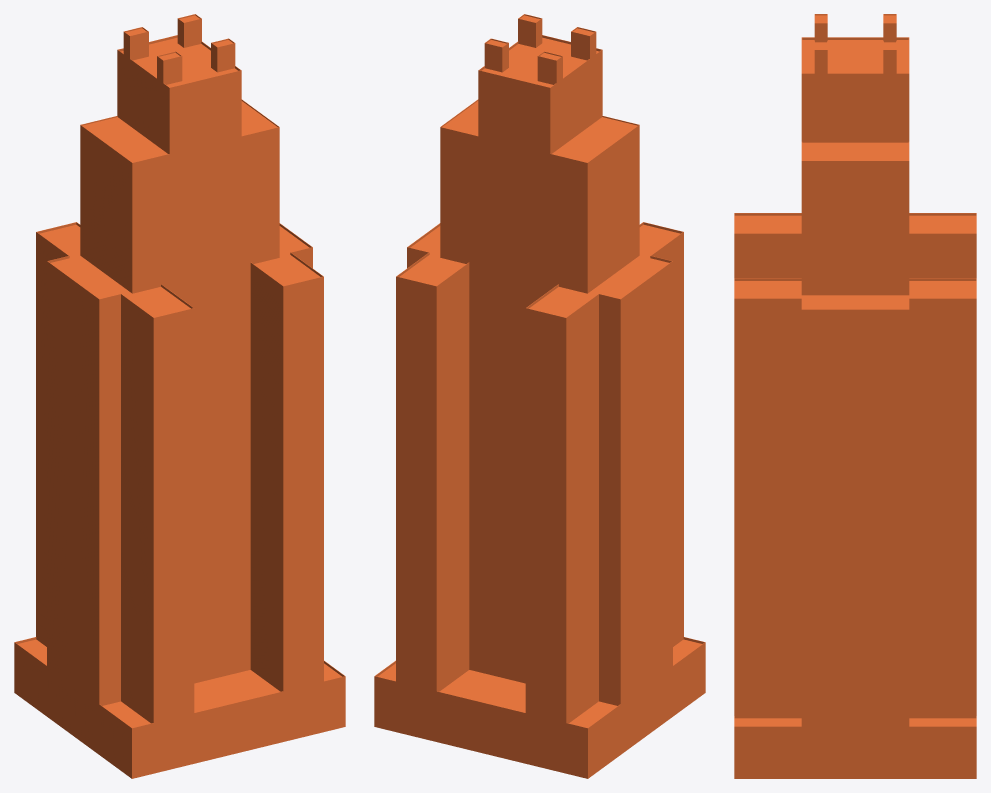
Rendered from Building_05_4.FBX.
The picture shows the model from 3 angles, left to right: view 1: azimuth 30°, elevation 25°; view 2: azimuth 150°, elevation 25°; view 3: azimuth 270°, elevation 25°; orthographic projection. The views are drawn at different scales.
Parts seen in each view (by area): view 1: Building_05_4; view 2: Building_05_4; view 3: Building_05_4.
Part boxes in pixels (x1,y1,x2,y2): Building_05_4: (14, 14, 345, 778); Building_05_4: (374, 14, 705, 778); Building_05_4: (734, 14, 976, 778).
Size of the model in its own units: 104638 by 314981 by 99860.
